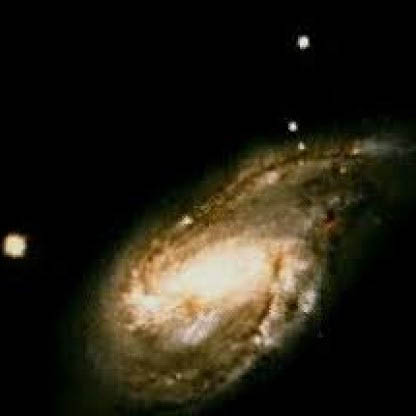Messier 66: (3, 88, 403, 410)
